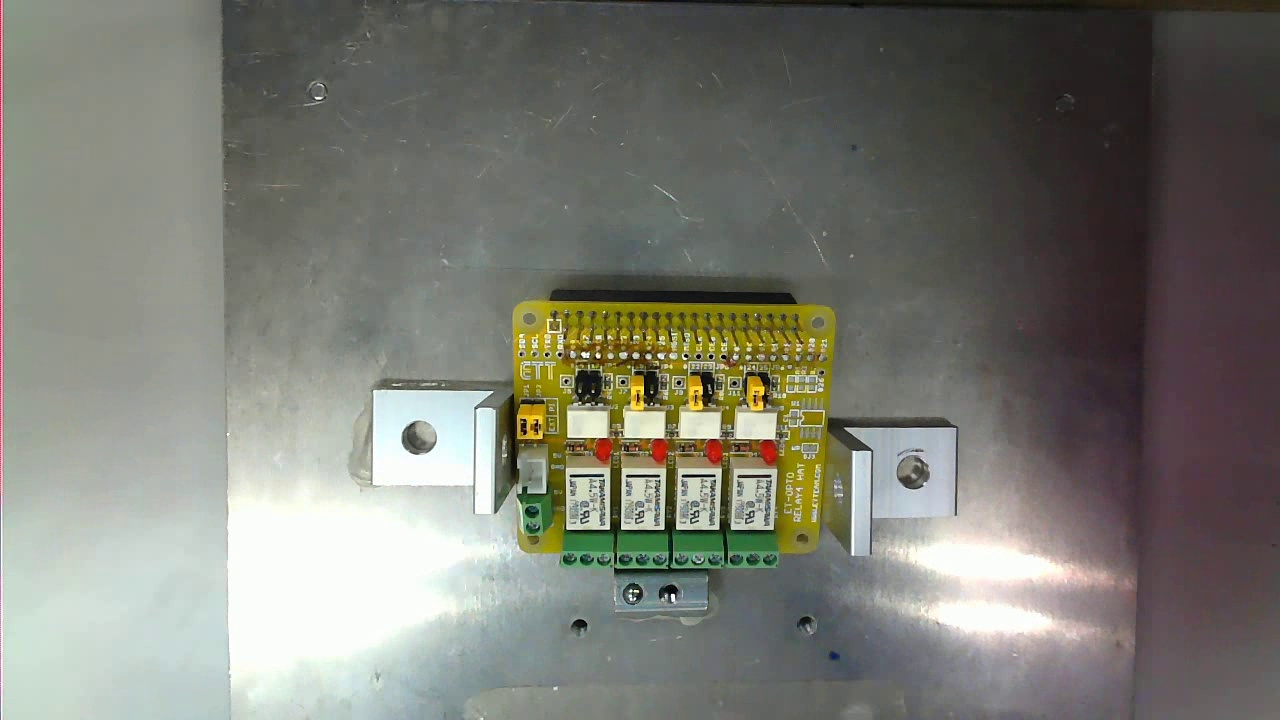can: (493, 297, 840, 575)
